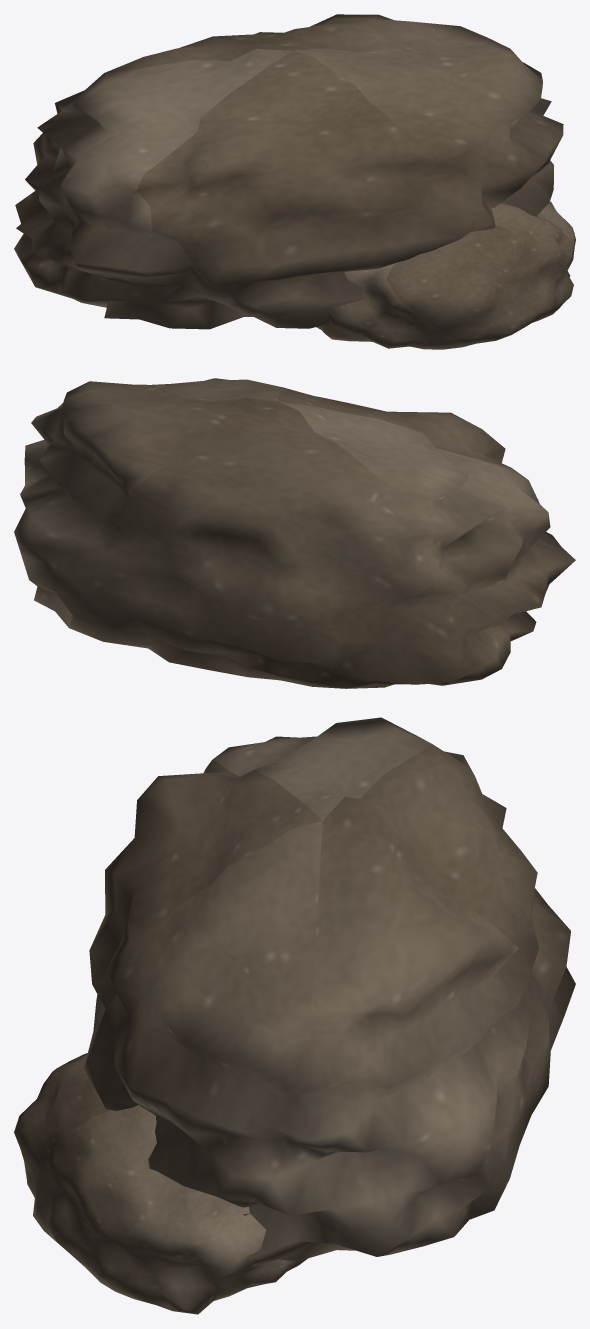
The model's file is NaturalRock_06_LayeredOutcrop.fbx.
The picture shows the model from 3 angles, top to bottom: view 1: azimuth 30°, elevation 25°; view 2: azimuth 150°, elevation 25°; view 3: azimuth 270°, elevation 25°; orthographic projection. The views are drawn at different scales.
Parts seen in each view (by area): view 1: Rock_Main.005, Rock_Front; view 2: Rock_Main.005; view 3: Rock_Main.005, Rock_Front.
Boxes of the visible parts, bbox=[...] form: Rock_Main.005: bbox=[14, 14, 563, 329]; Rock_Front: bbox=[316, 201, 575, 349]; Rock_Main.005: bbox=[14, 378, 575, 688]; Rock_Main.005: bbox=[84, 717, 575, 1266]; Rock_Front: bbox=[14, 1053, 307, 1314].
Size of the model in its own units: 3.08 by 1.47 by 2.12.
2 materials, 2 textured.
